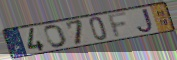0: (89, 15, 110, 42)
4: (27, 26, 47, 52)
7: (65, 18, 86, 46)
F: (106, 10, 130, 40)
J: (136, 7, 155, 34)
O: (44, 24, 69, 49)
